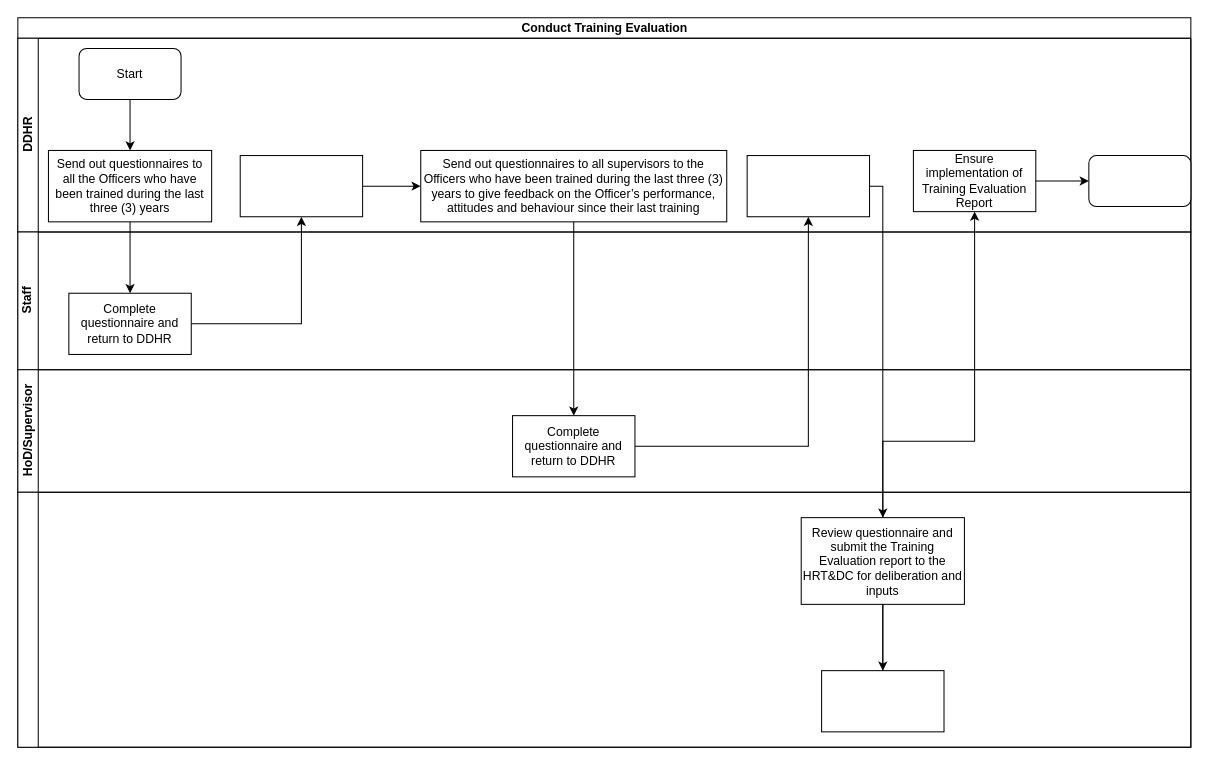
Image size: 1209x765. Some labels were removed from this diagram. Here are the shapes that lost their labels. From the top down, the box of each, then its label:
(239, 155, 363, 217): Receive completed questionnaire
(746, 155, 870, 217): Receive questionnaire and forward to Head of Training
(1088, 155, 1191, 207): End
(17, 491, 1191, 747): Head, Training
(821, 670, 944, 732): Incorporate inputs from the HRT&DC into the Training Evaluation report
